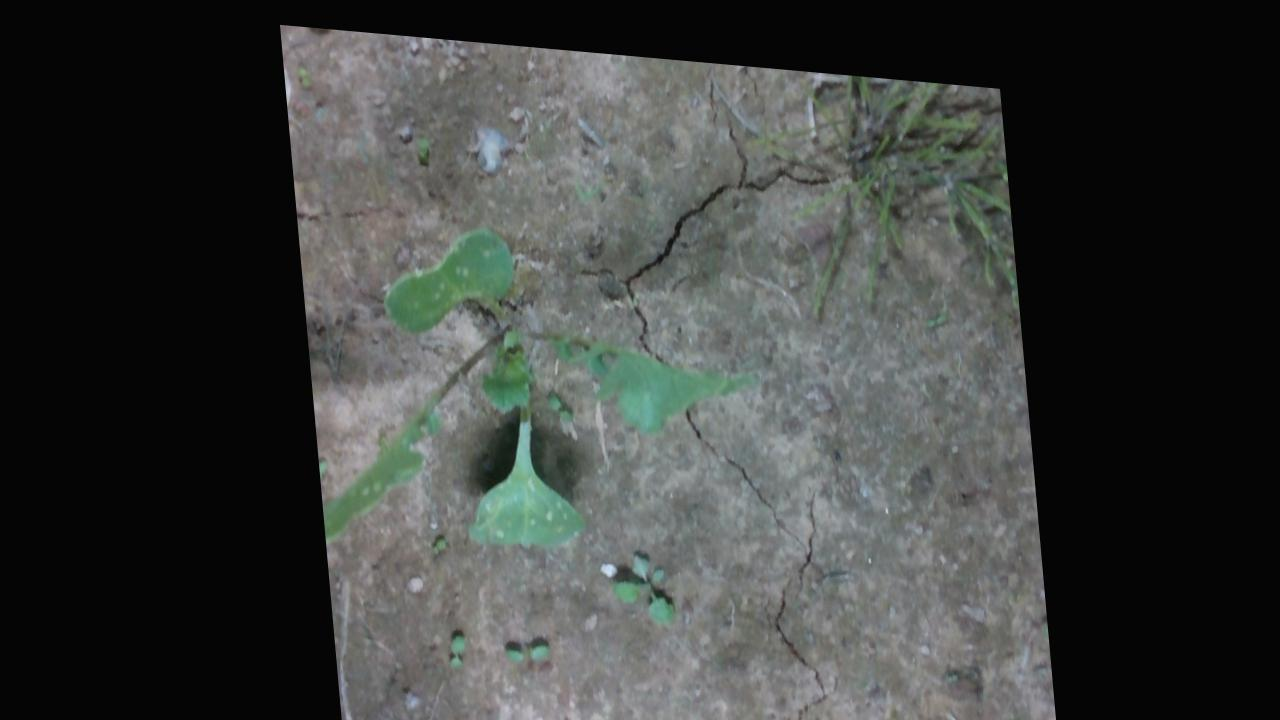weed: (595, 540, 666, 616), (487, 635, 547, 672), (429, 625, 459, 663), (413, 525, 442, 559)
